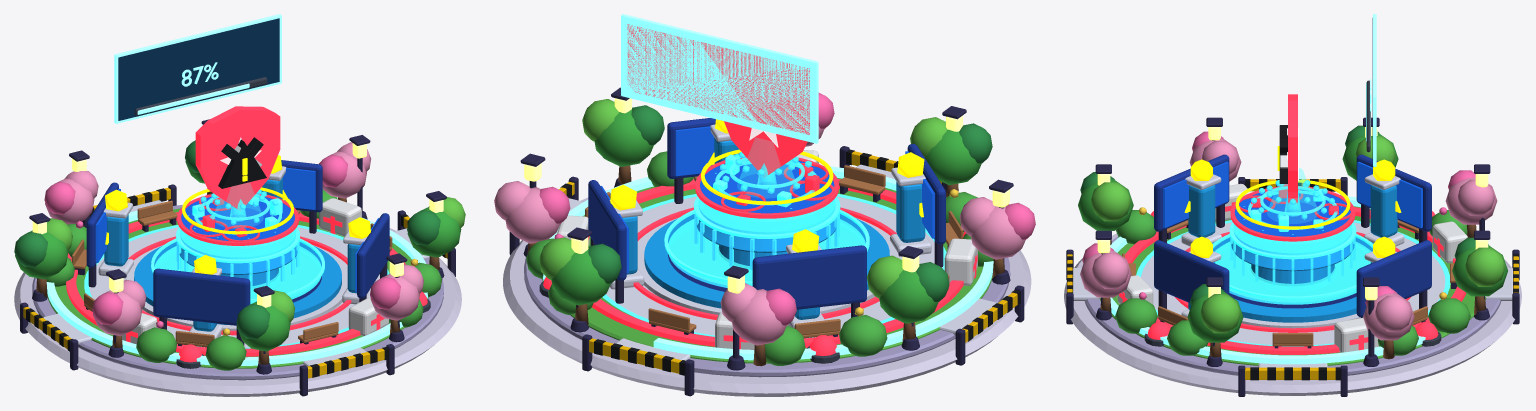
The picture shows the model from 3 angles, left to right: view 1: azimuth 30°, elevation 25°; view 2: azimuth 150°, elevation 25°; view 3: azimuth 270°, elevation 25°; orthographic projection. The views are drawn at different scales.
Parts seen in each view (by area): view 1: B08_base, B08_trees_leaf, B08_state_recovery_status_screen, B08_boards, B08_props, B08_state_incident_emergency_cluster, B08_state_incident_hologram_shield, B08_state_normal_water, B08_state_incident_impact_map, B08_pillars, B08_state_recovery_progress_ring, B08_state_incident_alert_ring (+10 smaller); view 2: B08_base, B08_trees_leaf, B08_state_recovery_status_screen, B08_boards, B08_props, B08_state_incident_command_board, B08_state_incident_emergency_cluster, B08_state_normal_water, B08_state_incident_impact_map, B08_pillars, B08_state_recovery_progress_ring, B08_state_incident_alert_ring (+8 smaller); view 3: B08_base, B08_trees_leaf, B08_boards, B08_props, B08_state_normal_water, B08_state_incident_emergency_cluster, B08_state_incident_impact_map, B08_pillars, B08_state_recovery_progress_ring, B08_state_incident_alert_ring, B08_state_warning_pillar_lights, B08_state_incident_hologram_shield (+7 smaller).
Part boxes in pixels (left/top/right/bottom): B08_base: left=14, top=200, right=461, bottom=396; B08_trees_leaf: left=14, top=140, right=465, bottom=351; B08_state_recovery_status_screen: left=114, top=14, right=281, bottom=123; B08_boards: left=86, top=160, right=389, bottom=345; B08_props: left=29, top=119, right=446, bottom=374; B08_state_incident_emergency_cluster: left=20, top=184, right=455, bottom=396; B08_state_incident_hologram_shield: left=195, top=106, right=280, bottom=210; B08_state_normal_water: left=154, top=189, right=321, bottom=304; B08_state_incident_impact_map: left=177, top=194, right=298, bottom=245; B08_pillars: left=98, top=166, right=371, bottom=338; B08_state_recovery_progress_ring: left=46, top=210, right=427, bottom=365; B08_state_incident_alert_ring: left=66, top=212, right=405, bottom=356; B08_base: left=503, top=164, right=1031, bottom=396; B08_trees_leaf: left=494, top=93, right=1035, bottom=345; B08_state_recovery_status_screen: left=621, top=14, right=818, bottom=143; B08_boards: left=588, top=118, right=945, bottom=317; B08_props: left=520, top=87, right=1013, bottom=370; B08_state_incident_command_board: left=627, top=24, right=809, bottom=134; B08_state_incident_emergency_cluster: left=509, top=146, right=1024, bottom=396; B08_state_normal_water: left=668, top=152, right=865, bottom=287; B08_state_incident_impact_map: left=695, top=154, right=838, bottom=218; B08_pillars: left=609, top=124, right=931, bottom=328; B08_state_recovery_progress_ring: left=543, top=165, right=993, bottom=360; B08_state_incident_alert_ring: left=592, top=179, right=963, bottom=347; B08_base: left=1064, top=206, right=1521, bottom=395; B08_trees_leaf: left=1078, top=125, right=1507, bottom=342; B08_boards: left=1154, top=154, right=1431, bottom=317; B08_props: left=1095, top=117, right=1490, bottom=366; B08_state_normal_water: left=1214, top=180, right=1371, bottom=304; B08_state_incident_emergency_cluster: left=1066, top=177, right=1519, bottom=396; B08_state_incident_impact_map: left=1230, top=184, right=1355, bottom=241; B08_pillars: left=1181, top=174, right=1404, bottom=317; B08_state_recovery_progress_ring: left=1110, top=195, right=1425, bottom=364; B08_state_incident_alert_ring: left=1125, top=207, right=1466, bottom=354; B08_state_warning_pillar_lights: left=1190, top=159, right=1395, bottom=257; B08_state_incident_hologram_shield: left=1279, top=94, right=1297, bottom=203.
Bounding box in the file's own units: 22.37 × 13.3 × 22.37.
